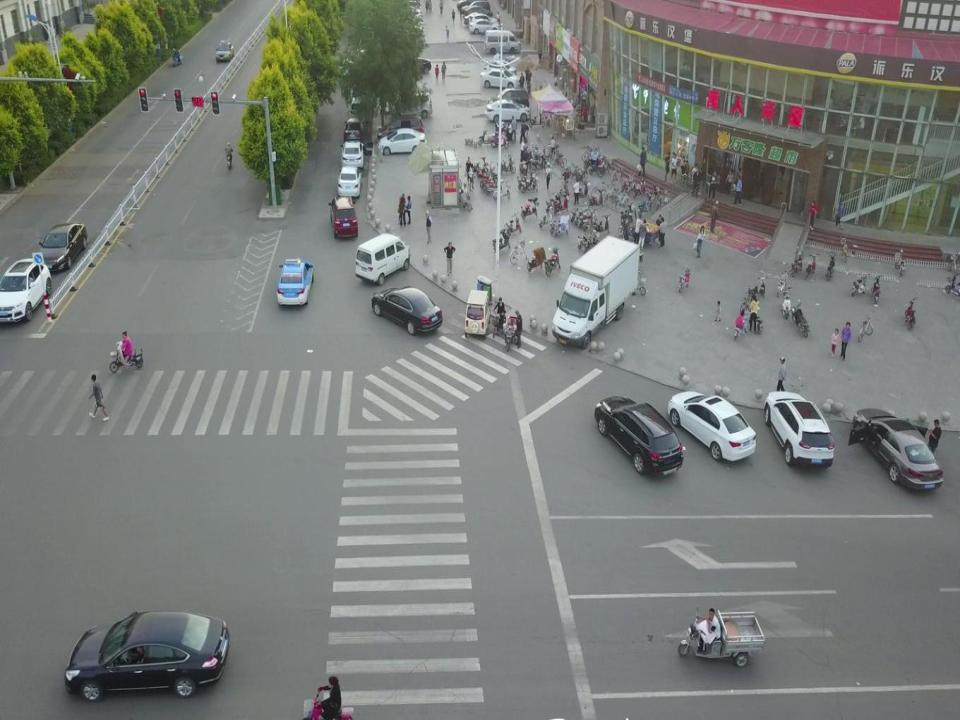car: (64, 610, 230, 702), (848, 408, 944, 490), (594, 395, 683, 476), (667, 391, 757, 462), (763, 390, 834, 468), (372, 285, 444, 336), (0, 258, 52, 326), (35, 221, 88, 272), (276, 258, 314, 306), (376, 128, 426, 156), (485, 99, 531, 123), (340, 140, 374, 172), (487, 88, 530, 109), (480, 68, 522, 89), (338, 166, 362, 198), (484, 59, 518, 80), (398, 57, 432, 78), (328, 57, 359, 79), (348, 94, 371, 123), (344, 117, 366, 144), (469, 19, 504, 35), (462, 12, 499, 26), (468, 13, 500, 27), (462, 0, 490, 15), (216, 40, 234, 63), (464, 6, 493, 18), (456, 0, 485, 10)
truck: (551, 234, 641, 350)
van: (355, 234, 410, 286), (328, 195, 358, 238), (390, 88, 433, 118), (378, 113, 424, 141), (484, 30, 522, 55)
